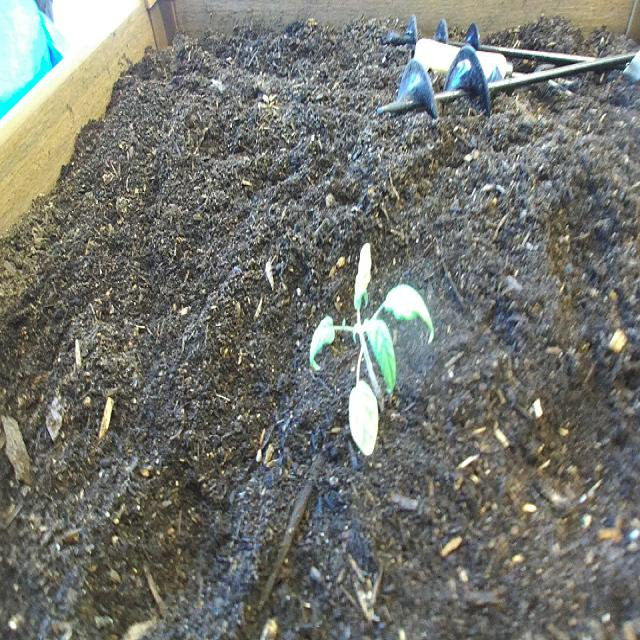Healthy: (303, 231, 438, 463)
